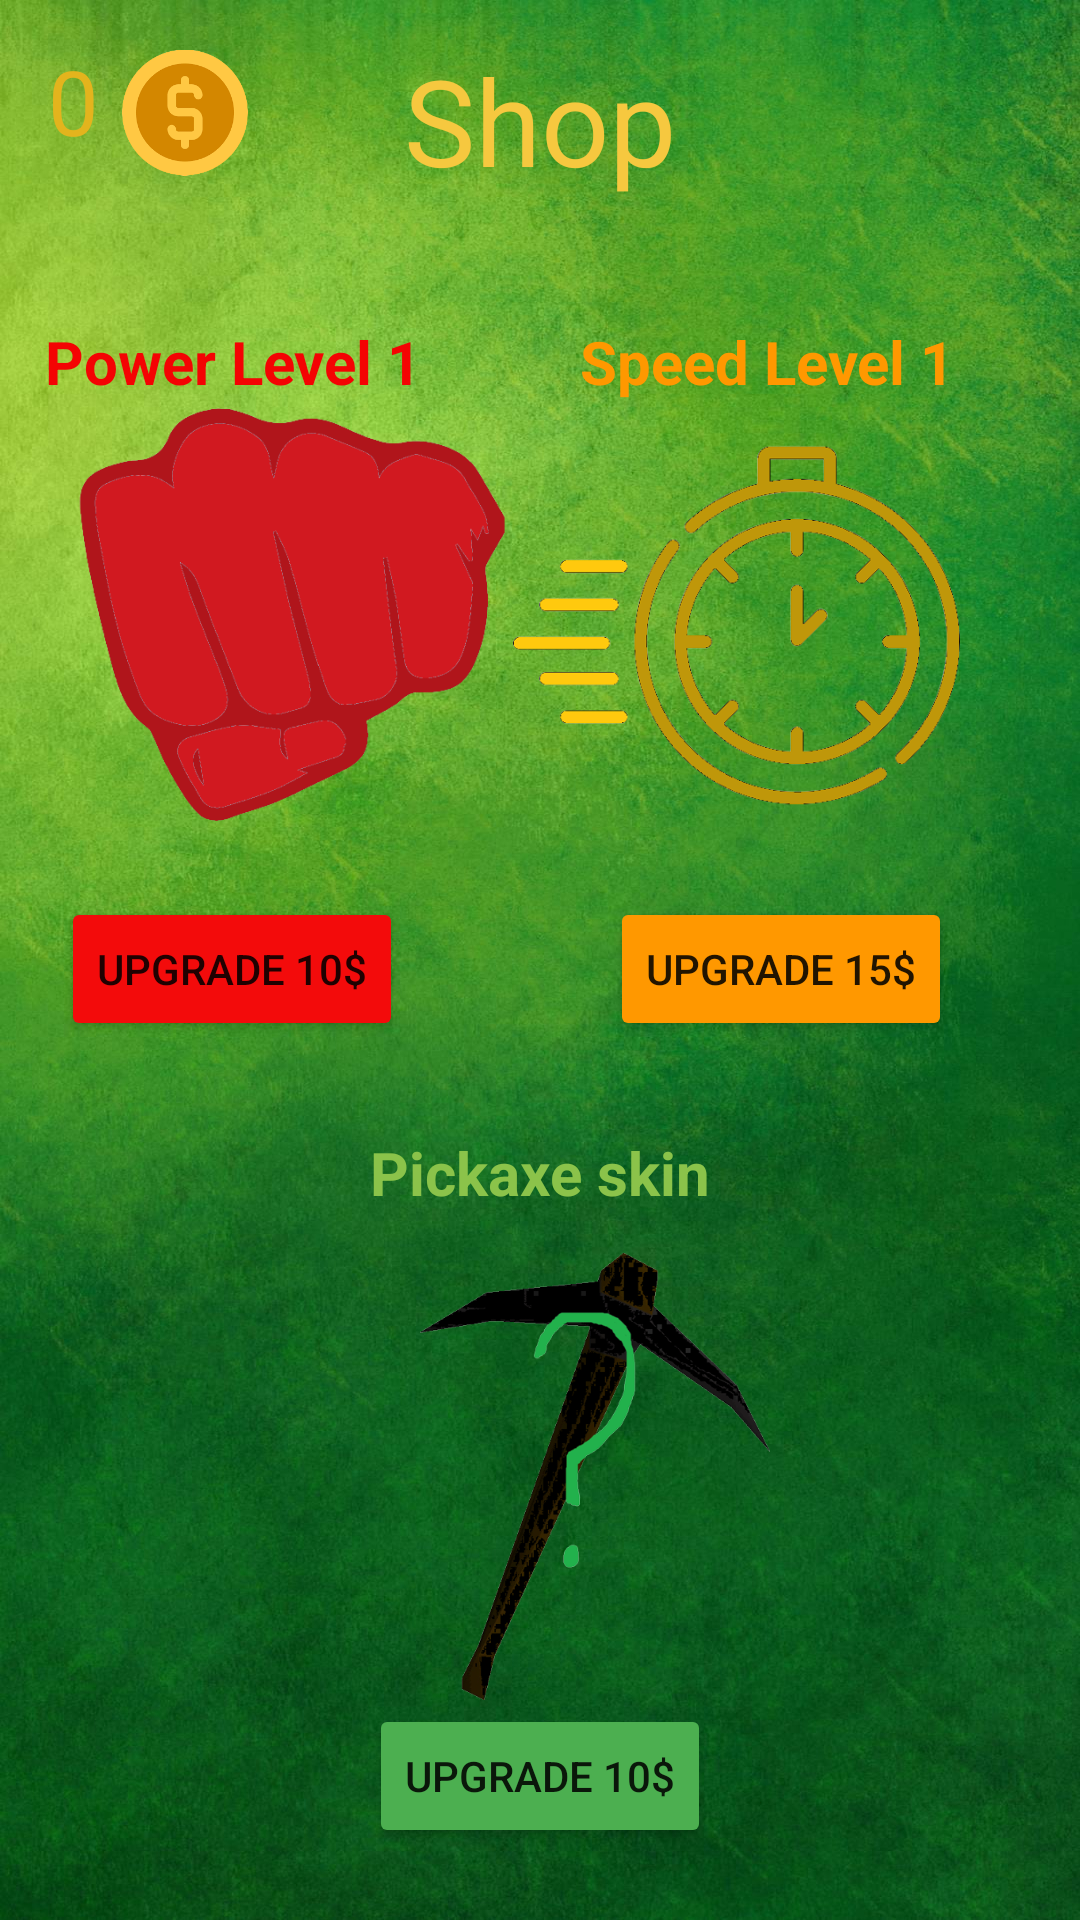

Icon click points for this 1080 x 1920 phone screenshot, format (x=x, y=y):
coin: (x=185, y=112)
